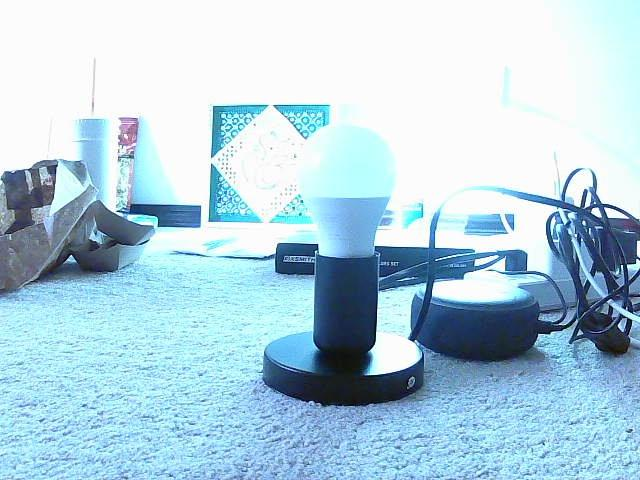Fan: (292, 119, 403, 225)
